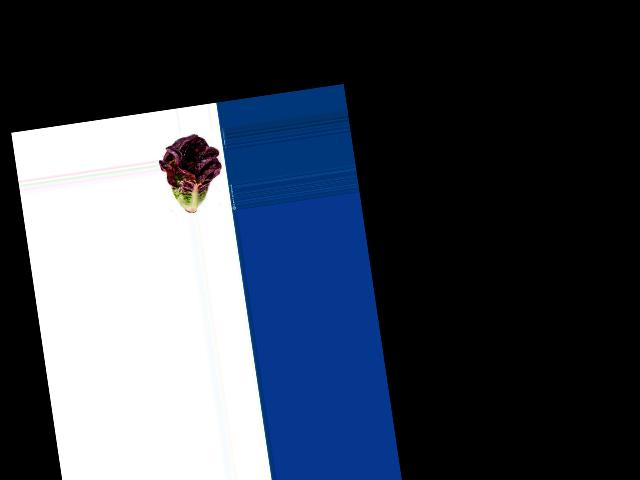lettuce: (158, 132, 227, 217)
